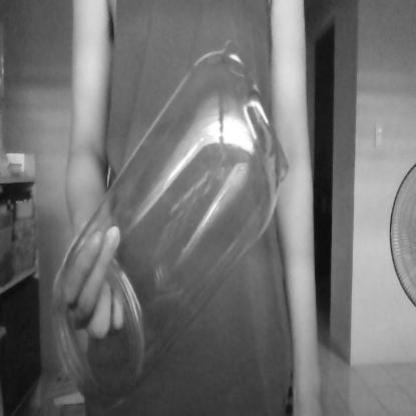Plastic Bottle: (52, 44, 289, 409)
